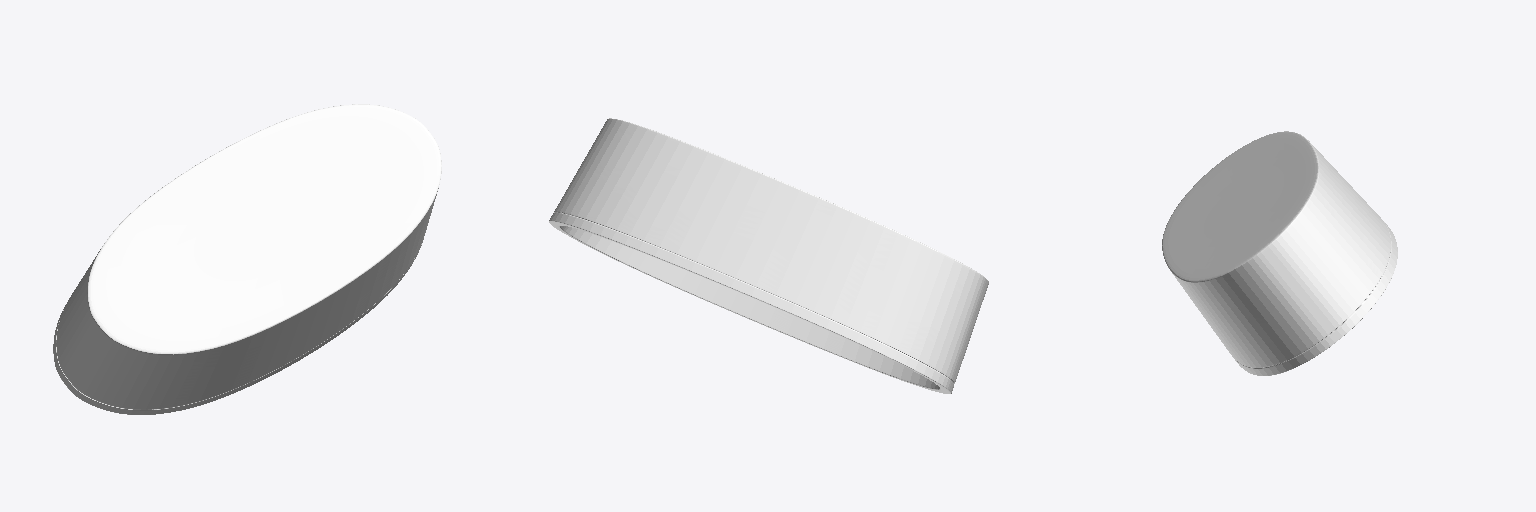
The model's file is yugang.obj.
3 views of the same model, side by side, from view 1: azimuth 30°, elevation 25°; view 2: azimuth 150°, elevation 25°; view 3: azimuth 270°, elevation 25° (orthographic).
Visible parts, largest first — view 1: Object.1; view 2: Object.1; view 3: Object.1.
Part boxes in pixels (x1,y1,x2,y2): Object.1: (53,104,441,414); Object.1: (549,118,988,393); Object.1: (1162,131,1397,375).
Size of the model in its own units: 1775 by 1014 by 954.